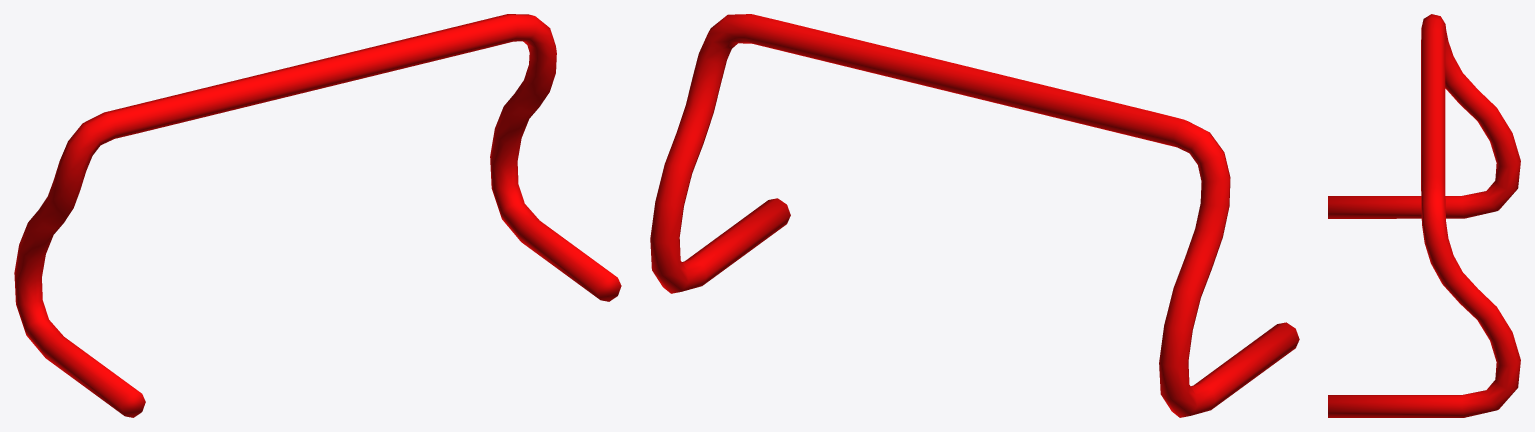
Rendered from equipment_0005_hurdle.glb.
The picture shows the model from 3 angles, left to right: view 1: azimuth 30°, elevation 25°; view 2: azimuth 150°, elevation 25°; view 3: azimuth 270°, elevation 25°; orthographic projection. The views are drawn at different scales.
Parts seen in each view (by area): view 1: hurdle; view 2: hurdle; view 3: hurdle.
Part boxes in pixels (x1,y1,x2,y2): hurdle: (14,14,621,417); hurdle: (650,14,1299,417); hurdle: (1328,14,1520,417).
Size of the model in its own units: 68.85 by 32.98 by 26.78.
